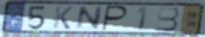1: (135, 6, 149, 32)
5: (26, 5, 48, 31)
B: (155, 6, 181, 32)
K: (52, 5, 75, 30)
N: (74, 6, 105, 31)
P: (100, 5, 129, 32)
